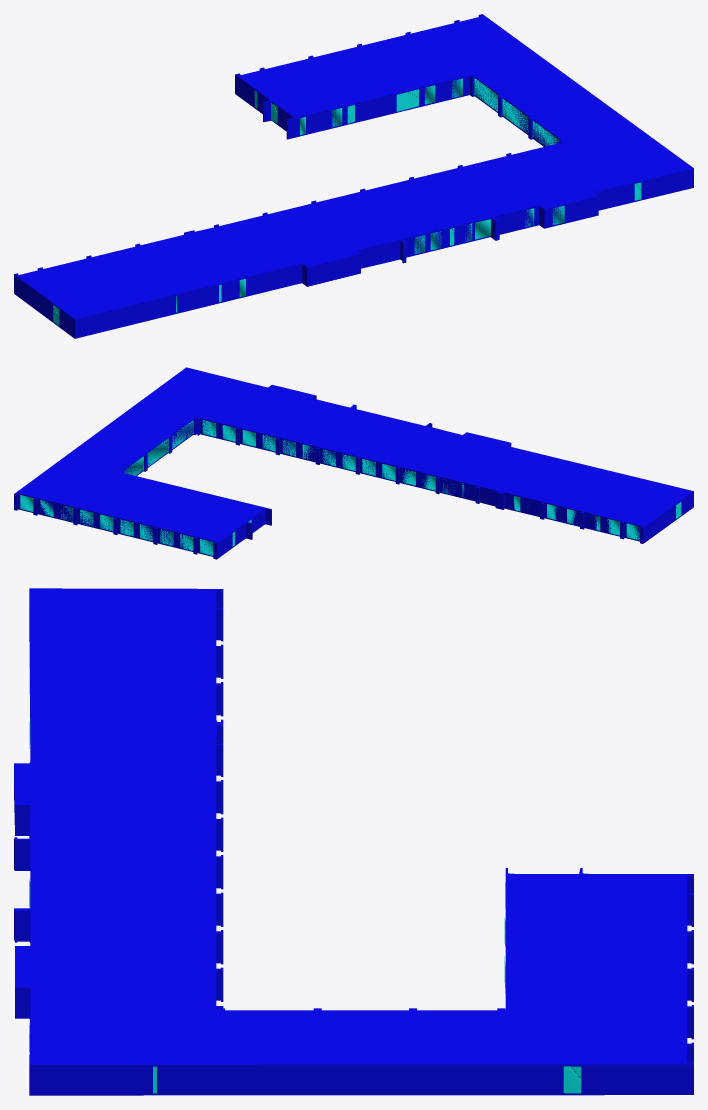
3 views of the same model, one above another, from view 1: azimuth 30°, elevation 25°; view 2: azimuth 150°, elevation 25°; view 3: azimuth 270°, elevation 25° (orthographic). The views are drawn at different scales.
Parts seen in each view (by area): view 1: group_out_solid_mesh, group_out_windows_mesh; view 2: group_out_solid_mesh, group_out_windows_mesh; view 3: group_out_solid_mesh, group_out_windows_mesh.
Boxes of the visible parts, x1,y1,x2,y2 form: group_out_solid_mesh: (14, 14, 693, 338); group_out_windows_mesh: (53, 78, 641, 325); group_out_solid_mesh: (14, 367, 693, 559); group_out_windows_mesh: (20, 420, 681, 555); group_out_solid_mesh: (14, 588, 693, 1095); group_out_windows_mesh: (29, 669, 581, 1093).
Bounding box in the file's own units: 99099 × 3000 × 59799.
